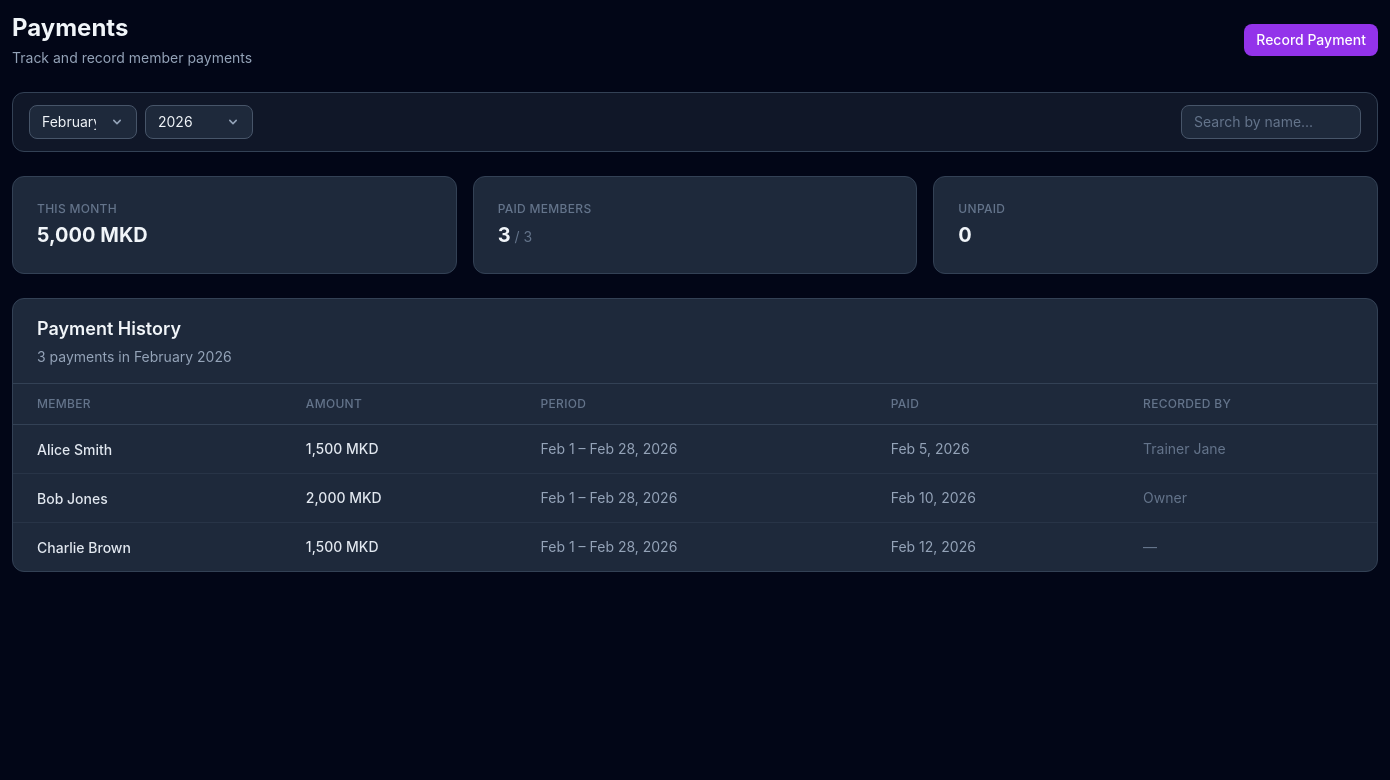
Test: TrainerPaymentsClient › Search › filters payments by member name
This screenshot has width=1390, height=780.
Type "Alice" into the field named "Search payments by member name" at (1271, 122), box [1181,105,1361,139]
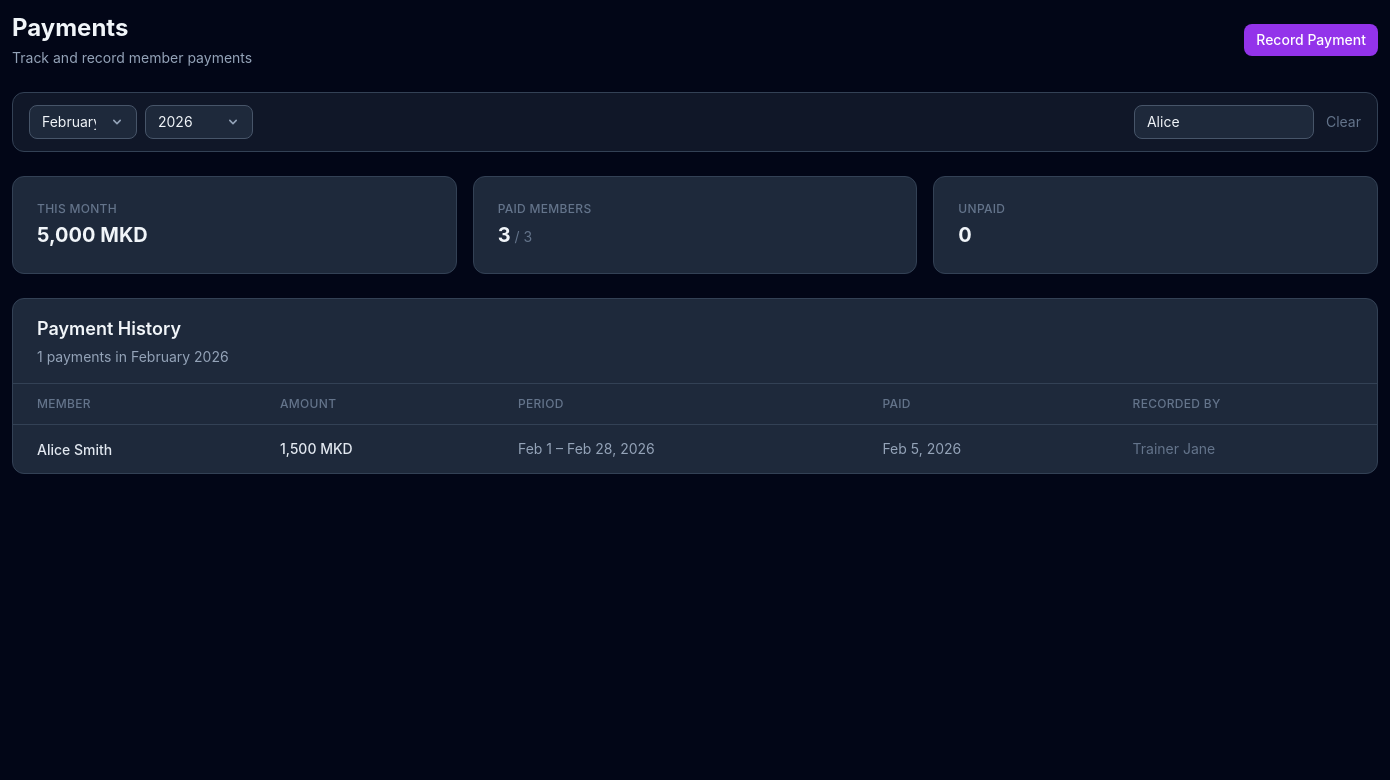
Check: the text "Alice Smith" is shown, box [37,441,112,458]
Check: the text "Bob Jones" is gone
Check: the text "Charlie Brown" is gone
